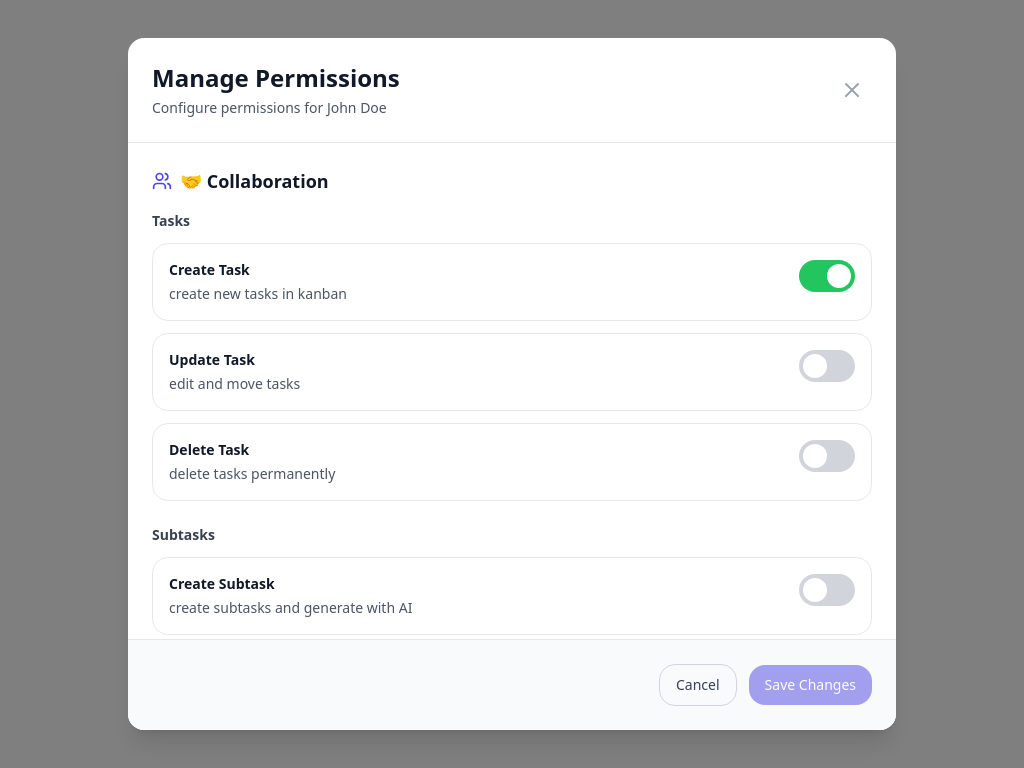
it: PermissionManagementModal › enables save button when changes are made
Click the switch named "Toggle Update Task permission" at (827, 366), box [799, 350, 855, 382]
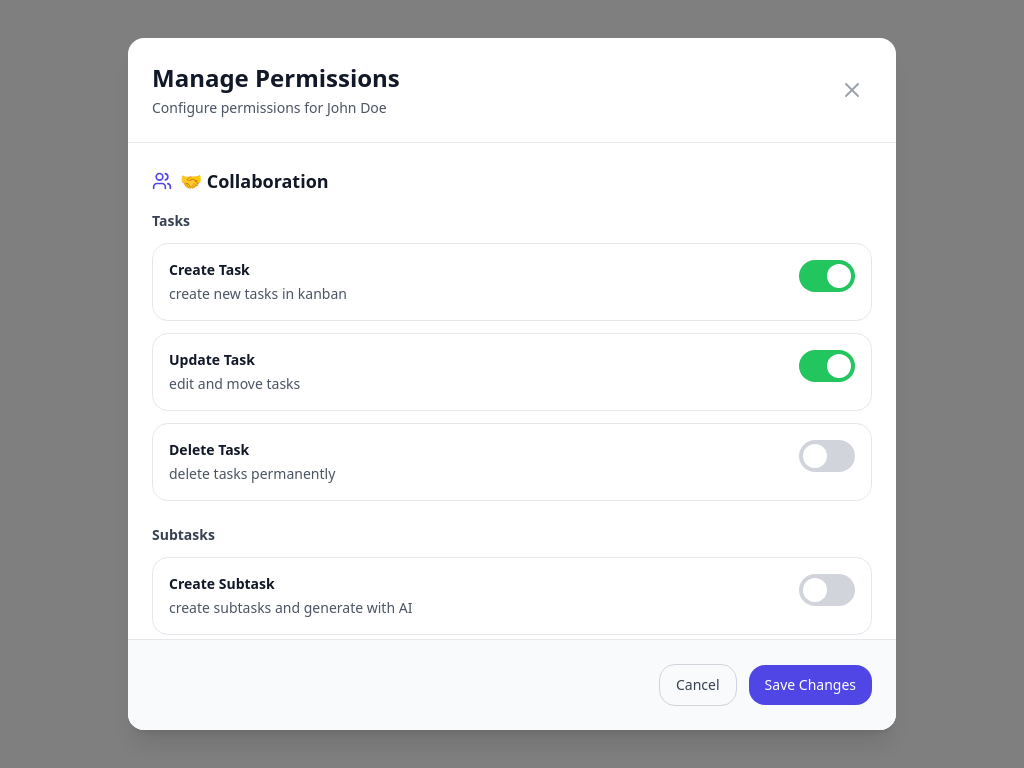
Now the button "Save Changes" is enabled, box [749, 665, 872, 705]
